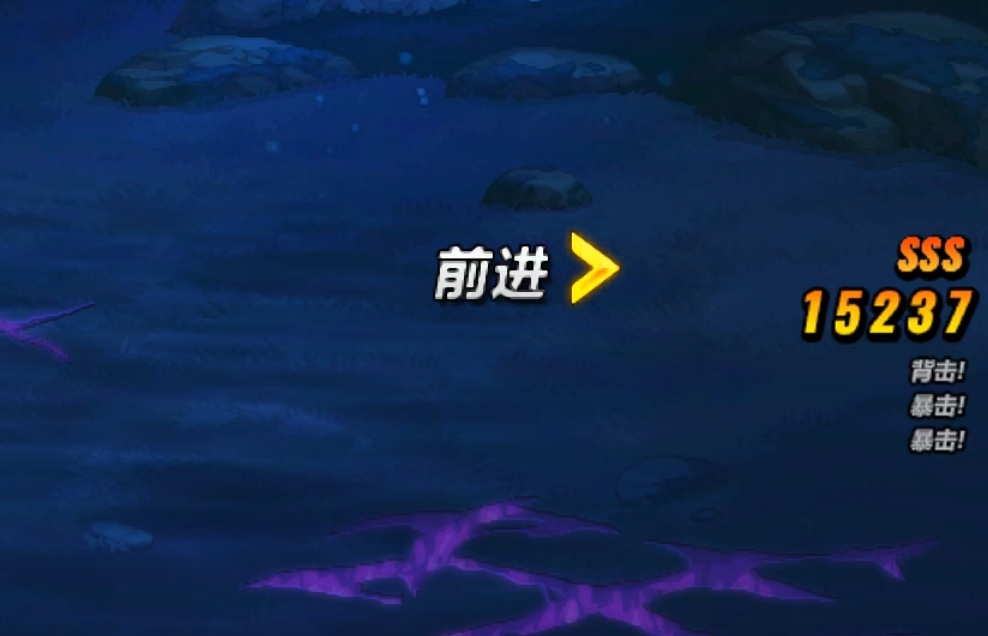forward: (423, 226, 627, 320)
